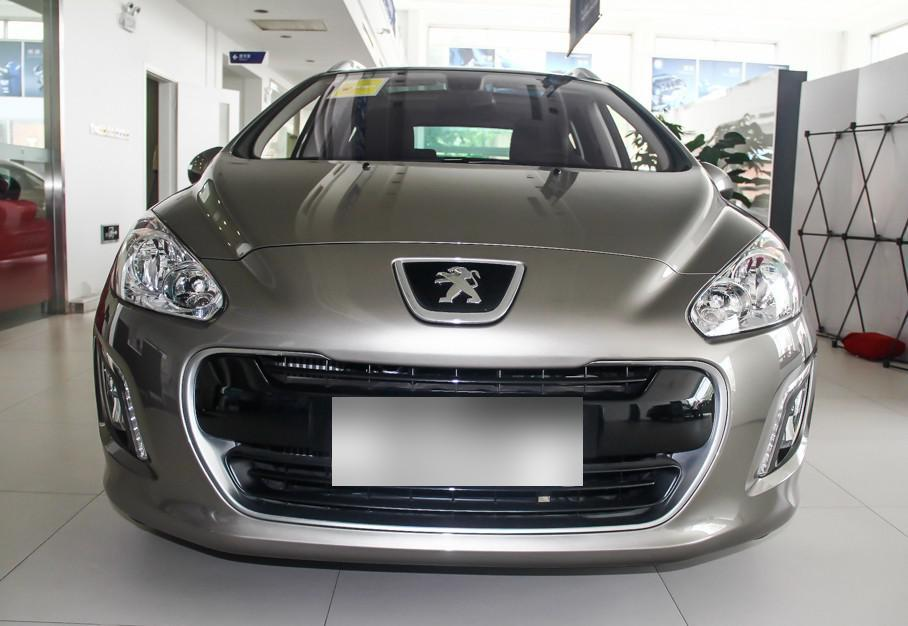Wagon: (91, 58, 819, 571)
